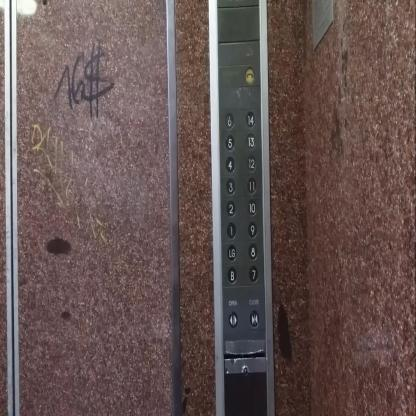1: (226, 221, 236, 240)
10: (247, 198, 257, 216)
11: (247, 176, 256, 194)
12: (246, 155, 256, 172)
13: (246, 133, 255, 149)
14: (245, 110, 256, 128)
2: (226, 200, 235, 218)
3: (226, 178, 235, 196)
4: (225, 155, 235, 173)
5: (225, 133, 234, 152)
6: (224, 112, 235, 130)
7: (248, 264, 258, 284)
8: (248, 243, 257, 260)
9: (247, 220, 257, 238)
B: (227, 264, 237, 284)
LG: (227, 243, 237, 262)
call: (245, 66, 254, 84)
close: (250, 309, 259, 328)
open: (228, 310, 238, 328)
